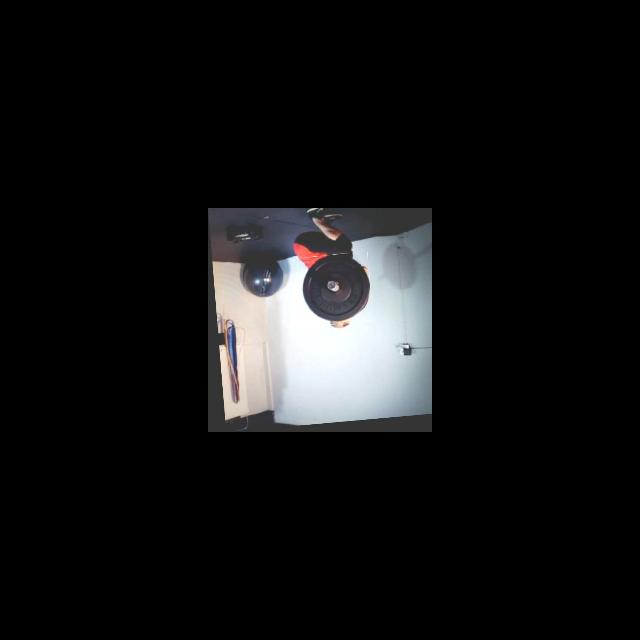barbell: (296, 254, 371, 329)
